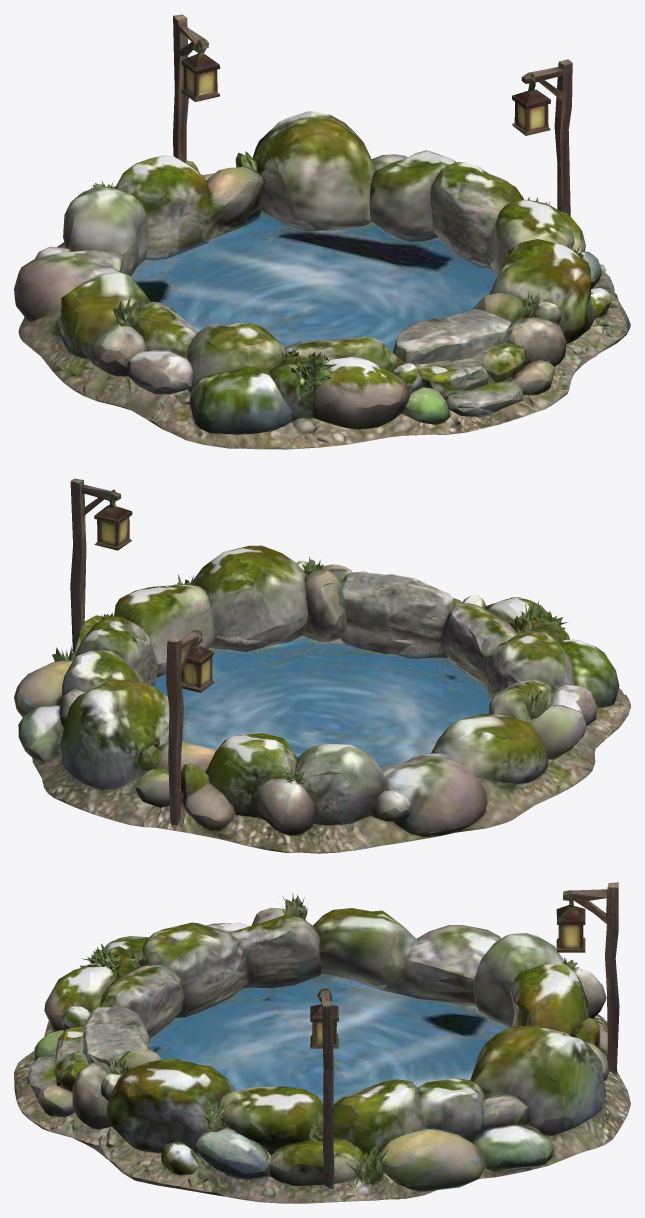
Rendered from spring.glb.
3 views of the same model, one above another, from view 1: azimuth 30°, elevation 25°; view 2: azimuth 150°, elevation 25°; view 3: azimuth 270°, elevation 25° (orthographic). The views are drawn at different scales.
Visible parts, largest first — view 1: Mesh_0; view 2: Mesh_0; view 3: Mesh_0.
Boxes of the visible parts, <box> form: Mesh_0: <box>14,14,630,449</box>; Mesh_0: <box>14,478,630,853</box>; Mesh_0: <box>14,882,630,1203</box>.
Bounding box in the file's own units: 1.85 × 0.6652 × 1.9.
Materials: 1 (1 with a texture image).
